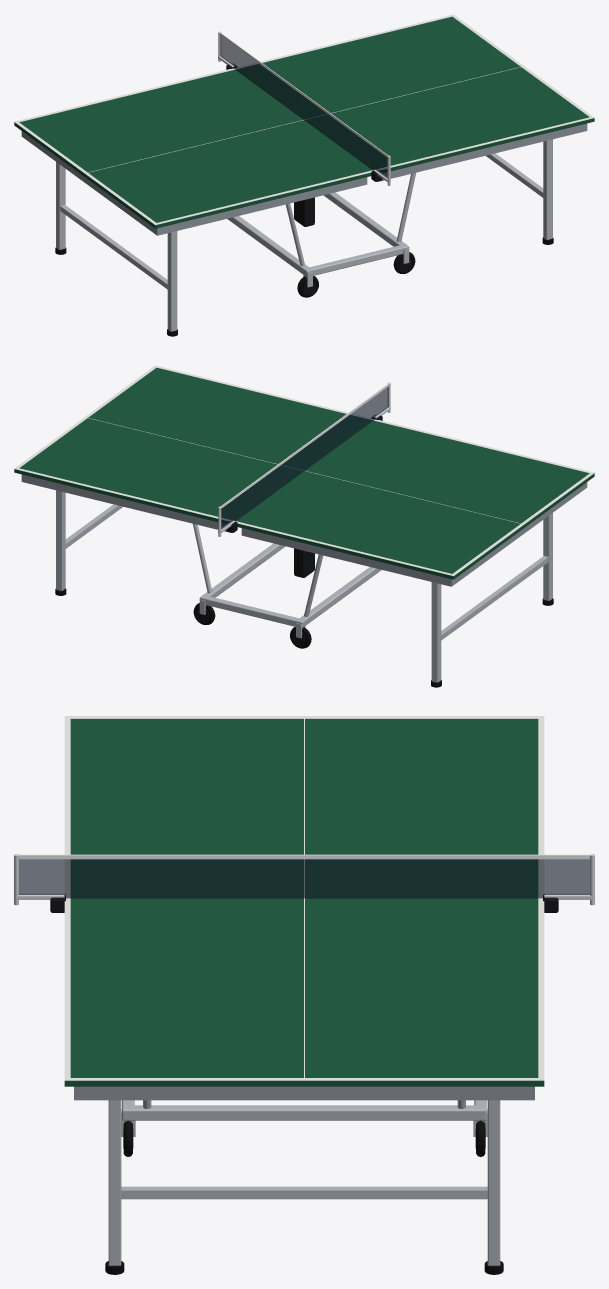
Rendered from platte-indoor-gruen.glb.
3 views of the same model, one above another, from view 1: azimuth 30°, elevation 25°; view 2: azimuth 150°, elevation 25°; view 3: azimuth 270°, elevation 25° (orthographic). The views are drawn at different scales.
Visible parts, largest first — view 1: Platte (×2), Netz, Beine (×2), Hälfte A, Fahrwerk, Hälfte B, Tischtennisplatte; view 2: Platte (×2), Netz, Beine (×2), Hälfte A, Fahrwerk, Hälfte B, Tischtennisplatte; view 3: Platte (×2), Netz, Hälfte B, Beine, Fahrwerk, Hälfte A.
Boxes of the visible parts, left/top/right/bottom form: Platte (×2): left=14, top=16, right=594, bottom=228; Netz: left=218, top=31, right=390, bottom=185; Beine (×2): left=55, top=139, right=553, bottom=336; Hälfte A: left=14, top=68, right=373, bottom=235; Fahrwerk: left=227, top=192, right=415, bottom=297; Hälfte B: left=235, top=14, right=594, bottom=181; Tischtennisplatte: left=285, top=173, right=415, bottom=265; Platte (×2): left=14, top=367, right=594, bottom=579; Netz: left=218, top=382, right=390, bottom=536; Beine (×2): left=55, top=490, right=553, bottom=687; Hälfte A: left=235, top=419, right=594, bottom=586; Fahrwerk: left=193, top=543, right=381, bottom=648; Hälfte B: left=14, top=365, right=373, bottom=532; Tischtennisplatte: left=193, top=524, right=323, bottom=616; Platte (×2): left=64, top=719, right=544, bottom=1086; Netz: left=14, top=854, right=594, bottom=912; Hälfte B: left=64, top=898, right=544, bottom=1100; Beine: left=105, top=1100, right=503, bottom=1274; Fahrwerk: left=121, top=1100, right=487, bottom=1156; Hälfte A: left=64, top=716, right=544, bottom=897.
Size of the model in its own units: 2.74 by 0.9125 by 1.85.
